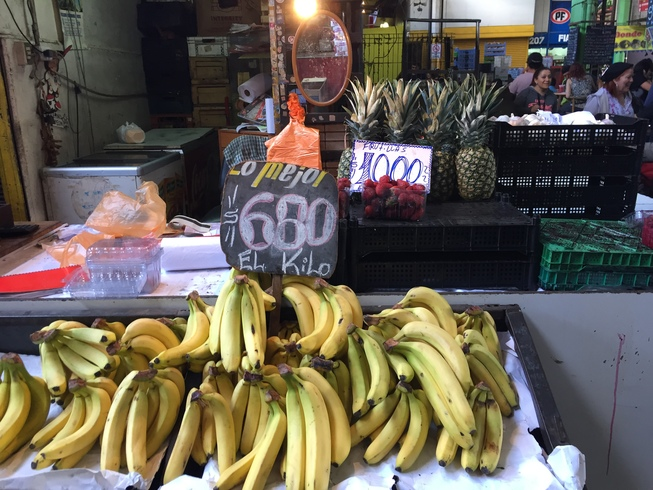precio: (222, 159, 345, 282), (347, 134, 436, 206)
